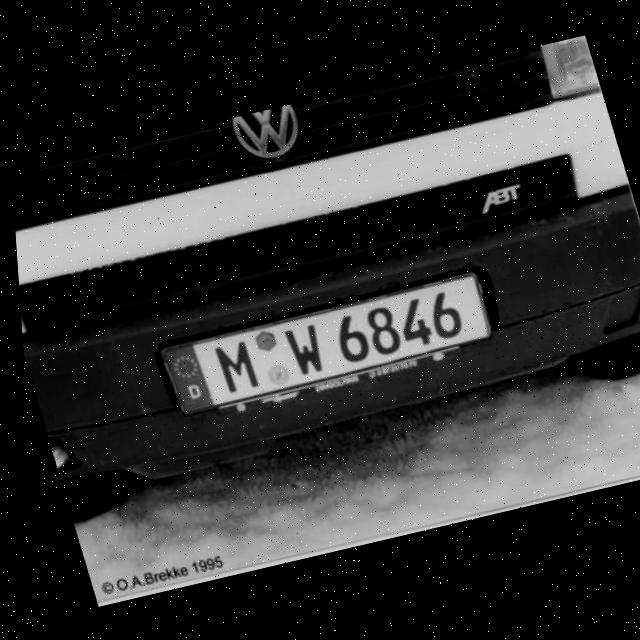license-plates: (161, 273, 492, 414)
